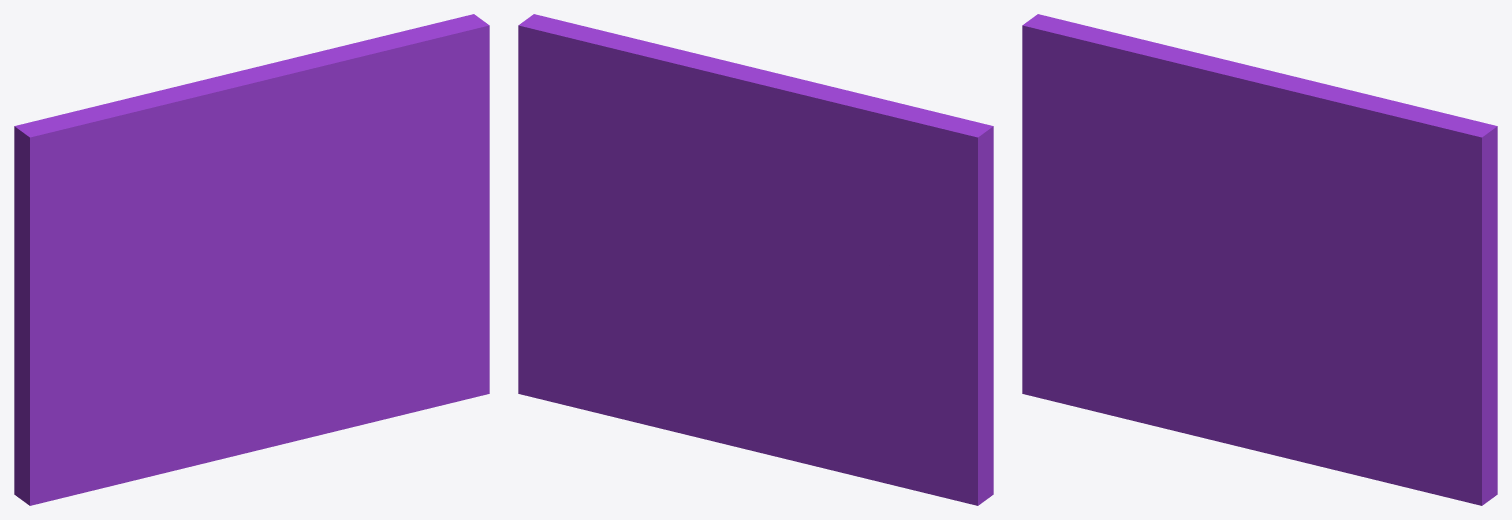
Rendered from Barrier_204_chunks.fbx.
3 views of the same model, side by side, from view 1: azimuth 30°, elevation 25°; view 2: azimuth 150°, elevation 25°; view 3: azimuth 330°, elevation 25° (orthographic).
Visible parts, largest first — view 1: Barrier_204_2, Barrier_204_3, Barrier_204_0; view 2: Barrier_204_2, Barrier_204_0, Barrier_204_3, Barrier_204_1; view 3: Barrier_204_2, Barrier_204_3, Barrier_204_0.
Part boxes in pixels (x1,y1,x2,y2): Barrier_204_2: (263, 14, 489, 428); Barrier_204_3: (14, 41, 389, 295); Barrier_204_0: (14, 267, 347, 505); Barrier_204_2: (518, 14, 741, 429); Barrier_204_0: (665, 283, 993, 505); Barrier_204_3: (629, 38, 993, 290); Barrier_204_1: (728, 223, 978, 292); Barrier_204_2: (1256, 99, 1497, 505); Barrier_204_3: (1022, 14, 1386, 269); Barrier_204_0: (1022, 184, 1339, 471).
Size of the model in its own units: 376 by 288 by 22.1.
